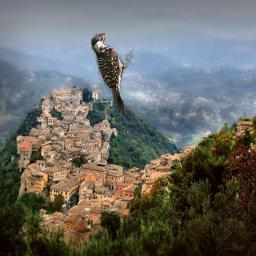Woodpecker: (91, 33, 133, 116)
